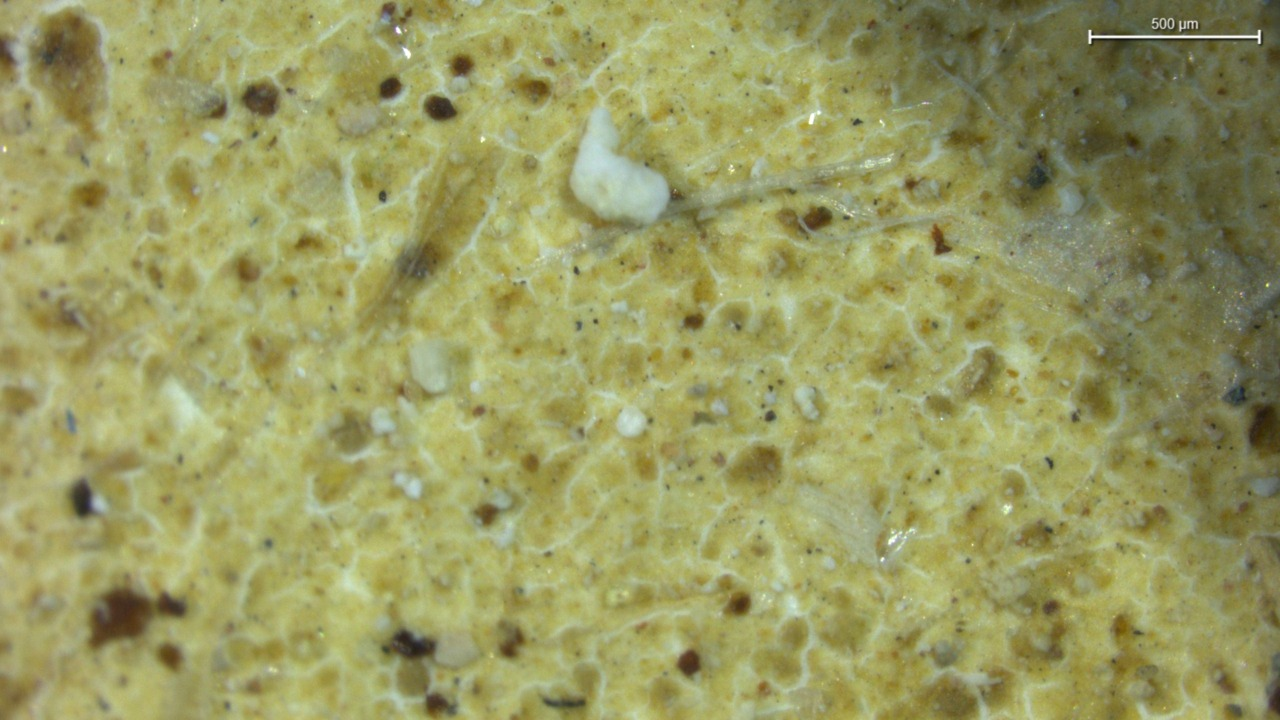microplastic_fragment: (569, 106, 670, 225)
